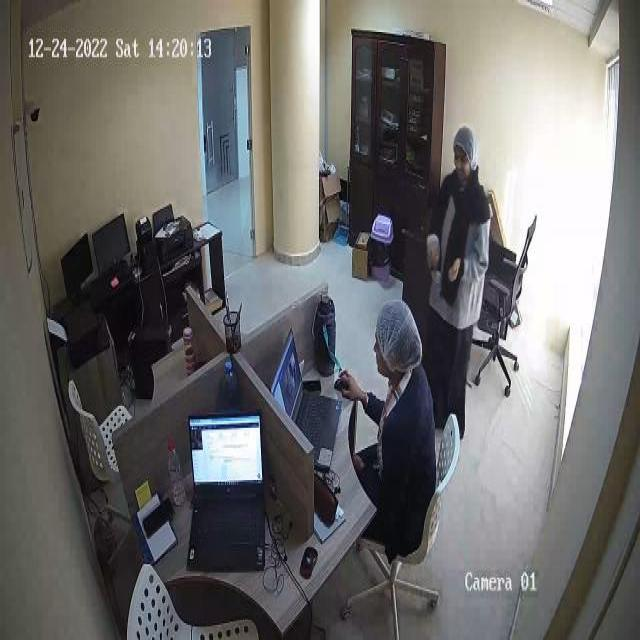hairnet: (379, 298, 423, 366), (454, 124, 479, 166)
